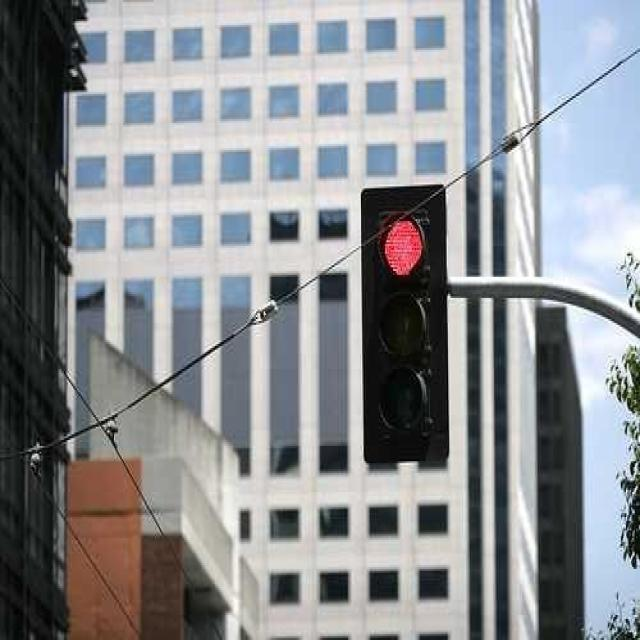Traffic Light -Red-: (353, 177, 457, 473)
